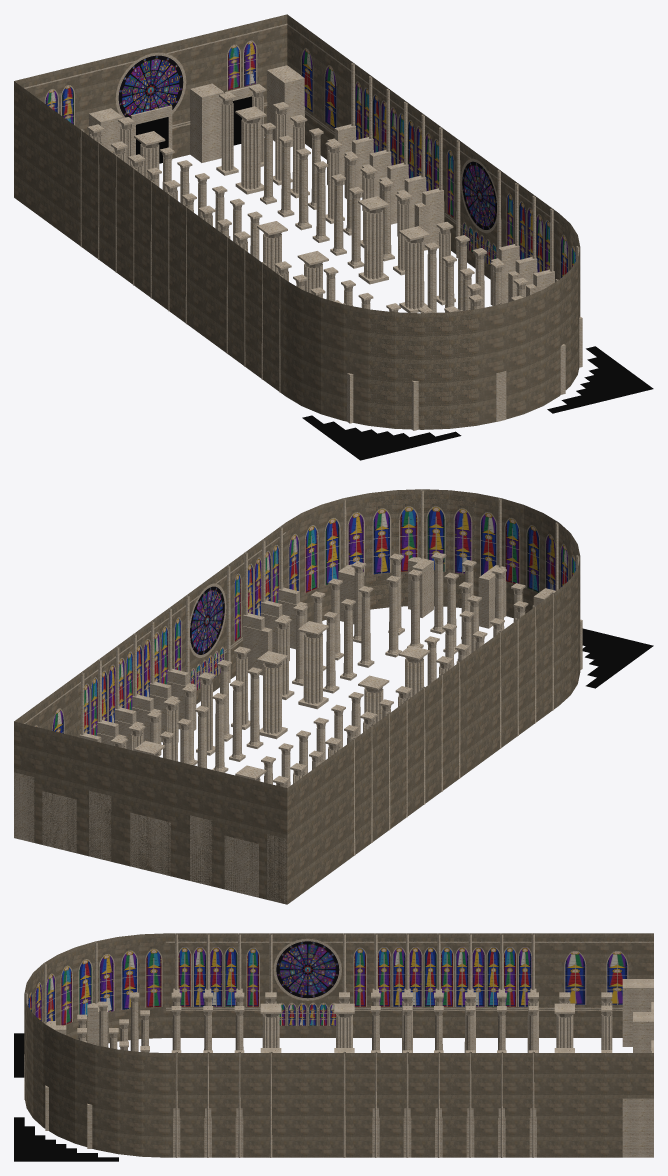
File: katedra.glb
3 views of the same model, one above another, from view 1: azimuth 30°, elevation 25°; view 2: azimuth 150°, elevation 25°; view 3: azimuth 270°, elevation 25° (orthographic). The views are drawn at different scales.
Visible parts, largest first — view 1: kat_mury, kat_filary, kat_lancet, kat_czern, kat_roza; view 2: kat_mury, kat_filary, kat_lancet, kat_czern, kat_roza; view 3: kat_mury, kat_filary, kat_lancet, kat_roza, kat_czern.
Boxes of the visible parts, <box> form: kat_mury: <box>14,14,580,429</box>; kat_filary: <box>24,23,582,430</box>; kat_lancet: <box>45,41,575,277</box>; kat_czern: <box>136,96,653,460</box>; kat_roza: <box>118,55,496,229</box>; kat_mury: <box>14,489,580,904</box>; kat_filary: <box>14,489,582,903</box>; kat_lancet: <box>35,507,576,735</box>; kat_czern: <box>582,628,653,688</box>; kat_roza: <box>190,586,224,654</box>; kat_mury: <box>24,933,653,1157</box>; kat_filary: <box>24,933,653,1157</box>; kat_lancet: <box>28,947,627,1025</box>; kat_roza: <box>276,941,339,998</box>; kat_czern: <box>14,1033,651,1161</box>.
Size of the model in its own units: 29 by 11 by 61.
5 materials, 4 textured.
